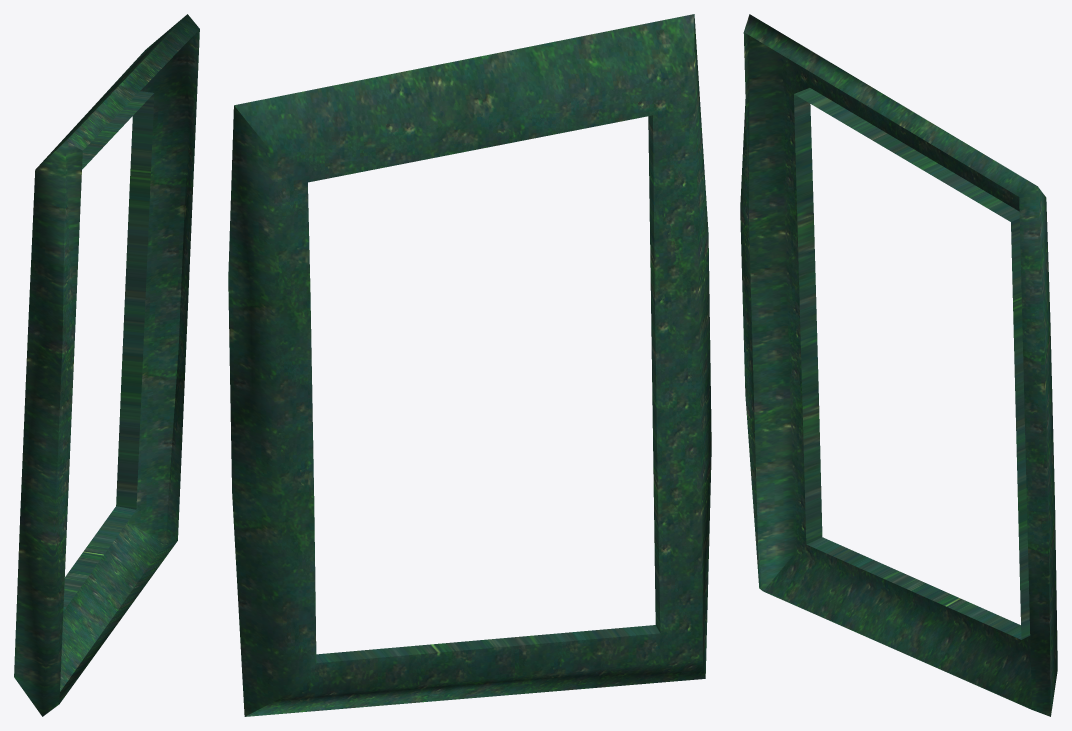
The model's file is MIRKWOOD_MIRK_PLAYSURFACE18.fbx.
The picture shows the model from 3 angles, left to right: view 1: azimuth 30°, elevation 25°; view 2: azimuth 150°, elevation 25°; view 3: azimuth 270°, elevation 25°; orthographic projection. The views are drawn at different scales.
Visible parts, largest first — view 1: MIRKWOOD_MIRK_PLAYSURFACE18; view 2: MIRKWOOD_MIRK_PLAYSURFACE18; view 3: MIRKWOOD_MIRK_PLAYSURFACE18.
Boxes of the visible parts, <box> form: MIRKWOOD_MIRK_PLAYSURFACE18: <box>14,14,199,716</box>; MIRKWOOD_MIRK_PLAYSURFACE18: <box>228,14,711,716</box>; MIRKWOOD_MIRK_PLAYSURFACE18: <box>740,14,1057,716</box>.
Bounding box in the file's own units: 26152 × 48642 × 23905.
1 material, 1 textured.
